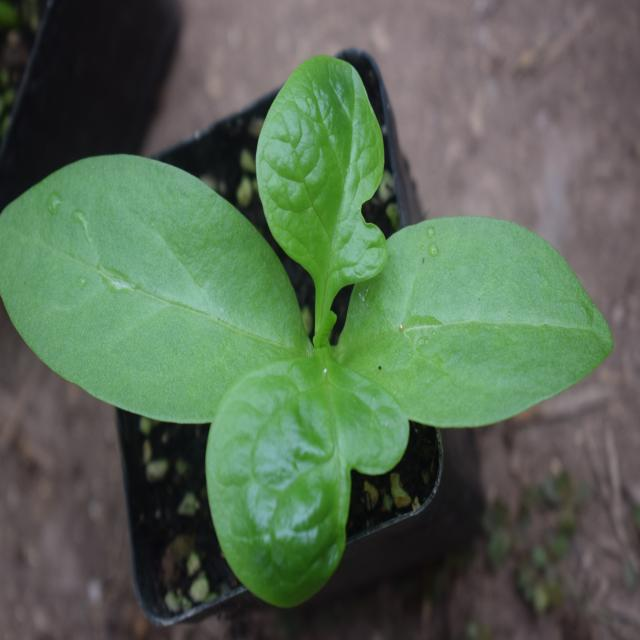Ceylon spinach: (60, 52, 595, 574)
